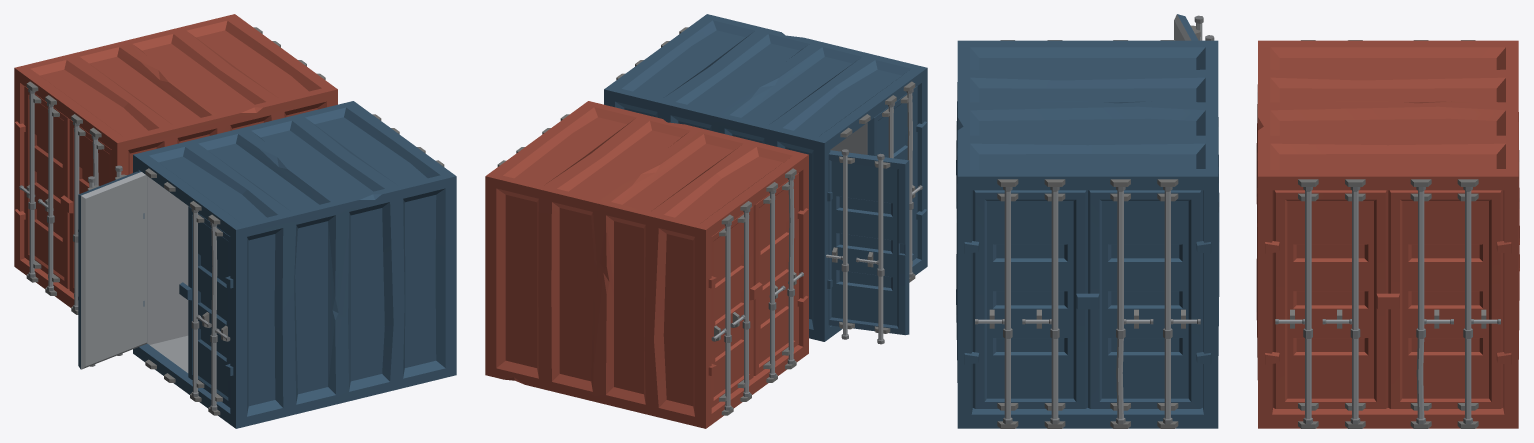
File: BaseContainers.glb
3 views of the same model, side by side, from view 1: azimuth 30°, elevation 25°; view 2: azimuth 150°, elevation 25°; view 3: azimuth 270°, elevation 25° (orthographic). The views are drawn at different scales.
Parts seen in each view (by area): view 1: SM_Prop_Container_Small_01__2_, SM_Prop_Container_Small_01__1_, SM_Prop_Container_Small_Door_01_5, SM_Prop_Container_Small_Door_01_3, SM_Prop_Container_Small_Door_02_5, SM_Prop_Container_Small_Door_02_3; view 2: SM_Prop_Container_Small_01__1_, SM_Prop_Container_Small_01__2_, SM_Prop_Container_Small_Door_01_5, SM_Prop_Container_Small_Door_02_3, SM_Prop_Container_Small_Door_01_3, SM_Prop_Container_Small_Door_02_5; view 3: SM_Prop_Container_Small_01__1_, SM_Prop_Container_Small_01__2_, SM_Prop_Container_Small_Door_04_3, SM_Prop_Container_Small_Door_04_5, SM_Prop_Container_Small_Door_03_3, SM_Prop_Container_Small_Door_03_5, SM_Prop_Container_Small_Door_01_5.
Boxes of the visible parts, x1,y1,x2,y2 form: SM_Prop_Container_Small_01__2_: (133, 101, 456, 428); SM_Prop_Container_Small_01__1_: (14, 14, 337, 314); SM_Prop_Container_Small_Door_01_5: (78, 165, 147, 369); SM_Prop_Container_Small_Door_01_3: (19, 86, 69, 290); SM_Prop_Container_Small_Door_02_5: (179, 206, 230, 410); SM_Prop_Container_Small_Door_02_3: (60, 119, 111, 309); SM_Prop_Container_Small_01__1_: (485, 101, 808, 428); SM_Prop_Container_Small_01__2_: (604, 14, 927, 341); SM_Prop_Container_Small_Door_01_5: (826, 149, 909, 344); SM_Prop_Container_Small_Door_02_3: (750, 173, 803, 377); SM_Prop_Container_Small_Door_01_3: (711, 206, 753, 410); SM_Prop_Container_Small_Door_02_5: (866, 86, 922, 277); SM_Prop_Container_Small_01__1_: (1256, 40, 1519, 428); SM_Prop_Container_Small_01__2_: (956, 40, 1219, 428); SM_Prop_Container_Small_Door_04_3: (1376, 187, 1503, 424); SM_Prop_Container_Small_Door_04_5: (1076, 187, 1202, 424); SM_Prop_Container_Small_Door_03_3: (1273, 187, 1388, 424); SM_Prop_Container_Small_Door_03_5: (973, 187, 1087, 424); SM_Prop_Container_Small_Door_01_5: (1174, 14, 1214, 40).
Size of the model in its own units: 4 by 2.61 by 5.25.
2 materials, 2 textured.
